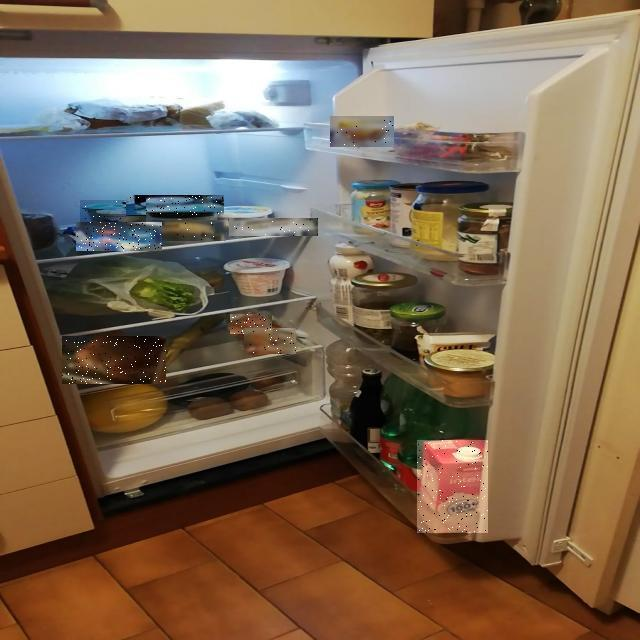apple: (96, 177, 392, 531), (94, 167, 366, 501)
carrot: (0, 192, 146, 576)
cheese: (40, 120, 268, 362), (0, 126, 158, 377)
milk: (173, 266, 640, 640)
